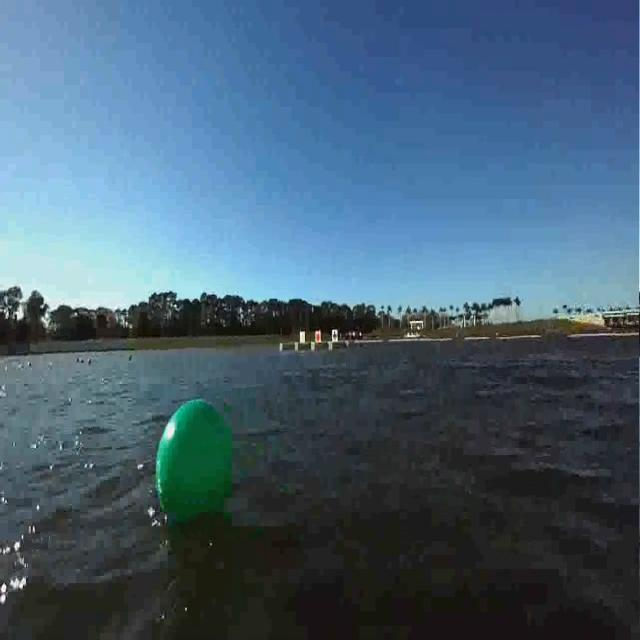green-buoy: (151, 397, 233, 530)
